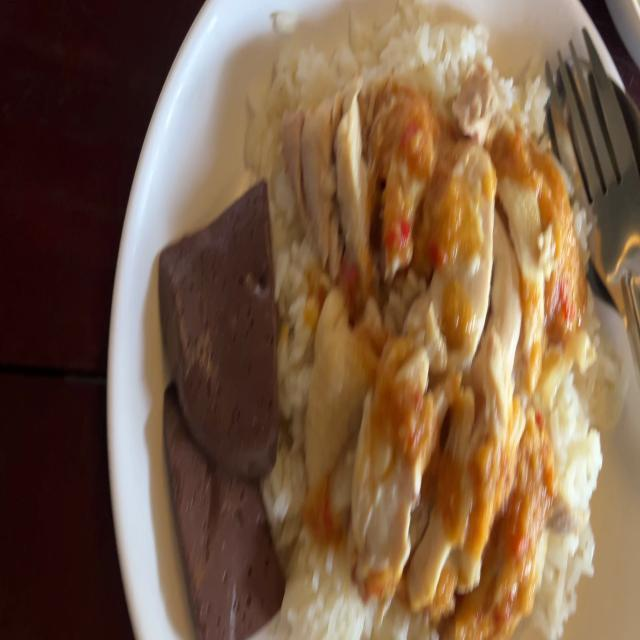chicken_rice: (291, 87, 573, 588)
noodle: (162, 177, 277, 463), (160, 387, 276, 635)
